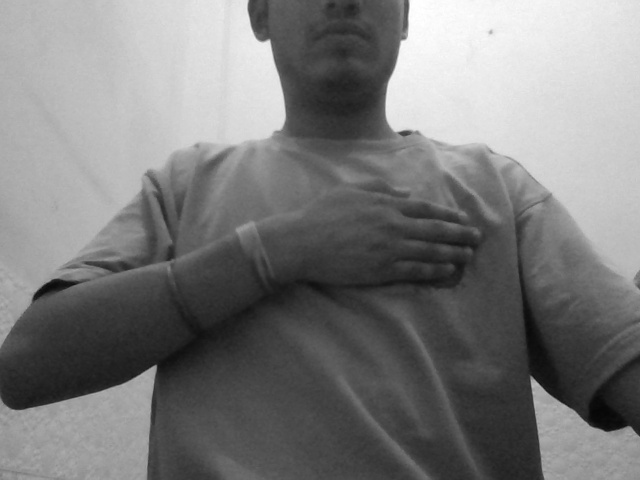Sorry: (291, 173, 529, 309)
